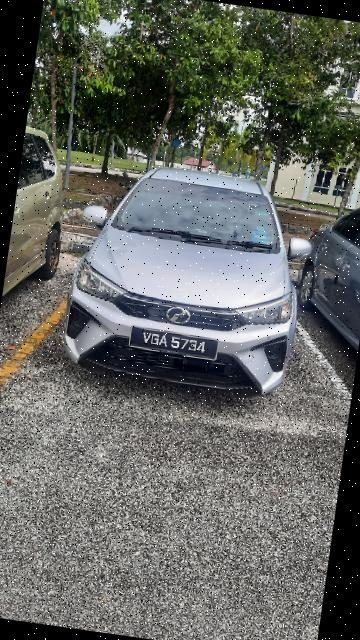License_Plate: (124, 318, 225, 364)
car: (58, 149, 324, 408)
